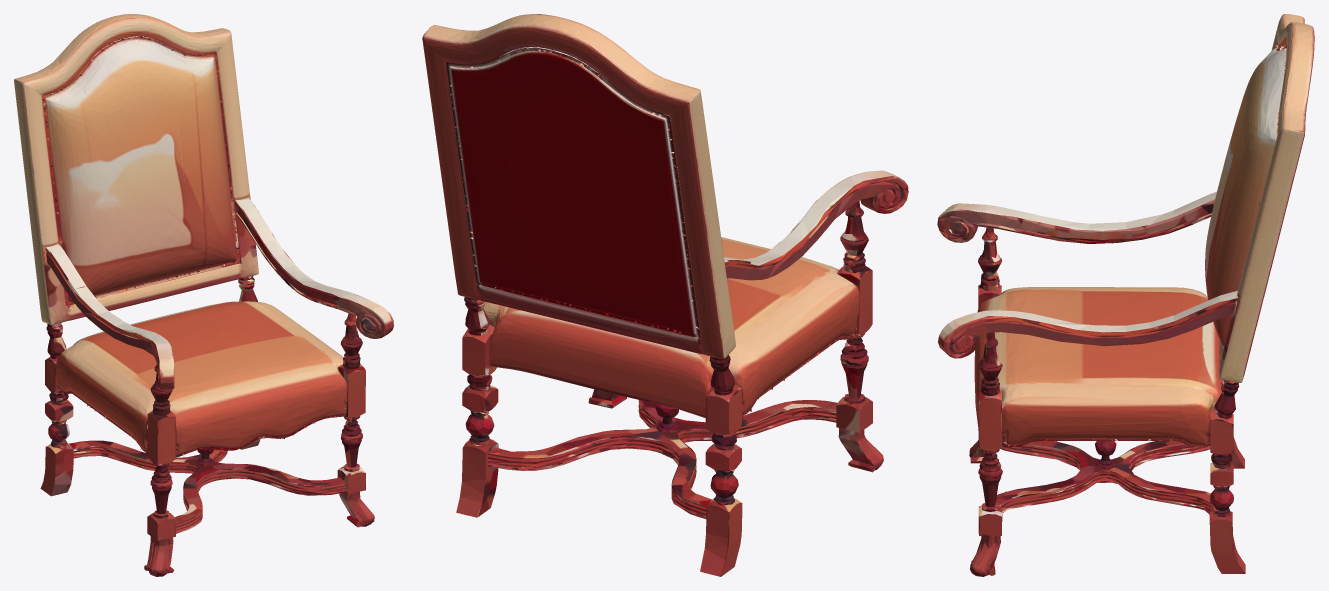
Rendered from edited_mesh.glb.
3 renders of one model, left to right at view 1: azimuth 30°, elevation 25°; view 2: azimuth 150°, elevation 25°; view 3: azimuth 270°, elevation 25°, orthographic. The views are drawn at different scales.
Visible parts, largest first — view 1: solid_001_wire; view 2: solid_001_wire; view 3: solid_001_wire.
Boxes of the visible parts, x1,y1,x2,y2 form: solid_001_wire: (14, 14, 393, 576); solid_001_wire: (422, 14, 908, 576); solid_001_wire: (937, 14, 1314, 576).
Bounding box in the file's own units: 0.8481 × 1.48 × 1.04.
Materials: 1 (1 with a texture image).
